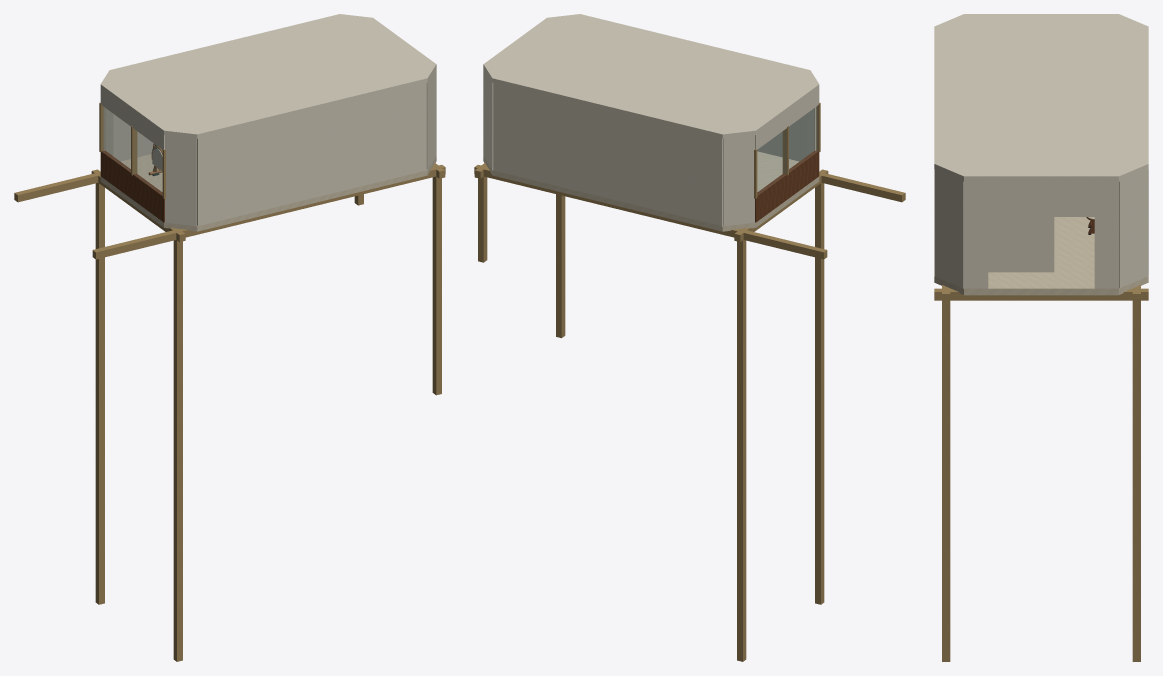
File: D04_PORT_AFT_HOME_912_r001.glb
3 views of the same model, side by side, from view 1: azimuth 30°, elevation 25°; view 2: azimuth 150°, elevation 25°; view 3: azimuth 270°, elevation 25° (orthographic). The views are drawn at different scales.
Parts seen in each view (by area): view 1: PA912_D04SH907_Roof, PA912_D04SH907_Shell_7, PA912_D04SH907_Pier_9, PA912_D04SH907_Pier_10, PA912_D04SH907_Shell_0, PA912_D04SH907_Floor, PA912_D04SH907_GardenGlass, PA912_D04SH907_Pier_11, PA912_D04SH907_FloorCross_0, PA912_D04SH907_GardenDado, PA912_D04SH907_GardenHead, PA912_D04SH907_Shell_3 (+2 smaller); view 2: PA912_D04SH907_Roof, PA912_D04SH907_Shell_3, PA912_D04SH907_Pier_10, PA912_D04SH907_Pier_9, PA912_D04SH907_Floor, PA912_D04SH907_Shell_2, PA912_D04SH907_GardenGlass, PA912_D04SH907_FloorCross_1, PA912_D04SH907_GardenDado, PA912_D04SH907_Pier_11, PA912_D04SH907_Shell_7, PA912_D04SH907_GardenHead (+3 smaller); view 3: PA912_D04SH907_Roof, PA912_D04SH907_Floor, PA912_D04SH907_EntryHeader, PA912_D04SH907_BathDogleg, PA912_D04SH907_Shell_4, PA912_D04SH907_Shell_6, PA912_D04SH907_EntryWall_0, PA912_D04SH907_EntryWall_1, PA912_D04SH907_Pier_11, PA912_D04SH907_Pier_10, PA912_D04SH907_Long_-46.349999999999994, PA912_D04SH907_Pier_12 (+2 smaller).
Boxes of the visible parts, x1,y1,x2,y2 form: PA912_D04SH907_Roof: (100,14,436,138); PA912_D04SH907_Shell_7: (197,83,426,225); PA912_D04SH907_Pier_9: (173,229,182,661); PA912_D04SH907_Pier_10: (95,183,104,604); PA912_D04SH907_Shell_0: (165,135,196,226); PA912_D04SH907_Floor: (100,154,436,231); PA912_D04SH907_GardenGlass: (103,108,162,193); PA912_D04SH907_Pier_11: (432,176,441,395); PA912_D04SH907_FloorCross_0: (92,165,445,259); PA912_D04SH907_GardenDado: (100,150,164,222); PA912_D04SH907_GardenHead: (100,89,164,149); PA912_D04SH907_Shell_3: (113,114,153,161); PA912_D04SH907_Roof: (483,14,819,138); PA912_D04SH907_Shell_3: (493,83,722,225); PA912_D04SH907_Pier_10: (737,229,746,661); PA912_D04SH907_Pier_9: (815,174,824,604); PA912_D04SH907_Floor: (483,151,819,231); PA912_D04SH907_Shell_2: (723,135,754,226); PA912_D04SH907_GardenGlass: (757,108,816,194); PA912_D04SH907_FloorCross_1: (474,165,827,259); PA912_D04SH907_GardenDado: (755,150,819,222); PA912_D04SH907_Pier_11: (556,194,565,338); PA912_D04SH907_Shell_7: (757,114,806,161); PA912_D04SH907_GardenHead: (755,89,819,149); PA912_D04SH907_Roof: (934,14,1148,181); PA912_D04SH907_Floor: (934,217,1148,295); PA912_D04SH907_EntryHeader: (988,181,1094,216); PA912_D04SH907_BathDogleg: (988,217,1053,272); PA912_D04SH907_Shell_4: (1119,169,1147,288); PA912_D04SH907_Shell_6: (935,169,963,288); PA912_D04SH907_EntryWall_0: (964,181,988,288); PA912_D04SH907_EntryWall_1: (1094,181,1118,288); PA912_D04SH907_Pier_11: (942,288,950,567); PA912_D04SH907_Pier_10: (1132,406,1140,661); PA912_D04SH907_Long_-46.349999999999994: (934,288,1148,300); PA912_D04SH907_Pier_12: (1132,288,1140,405).
Size of the model in its own units: 16.55 by 23.78 by 7.2.
Materials: 36 (21 with a texture image).
